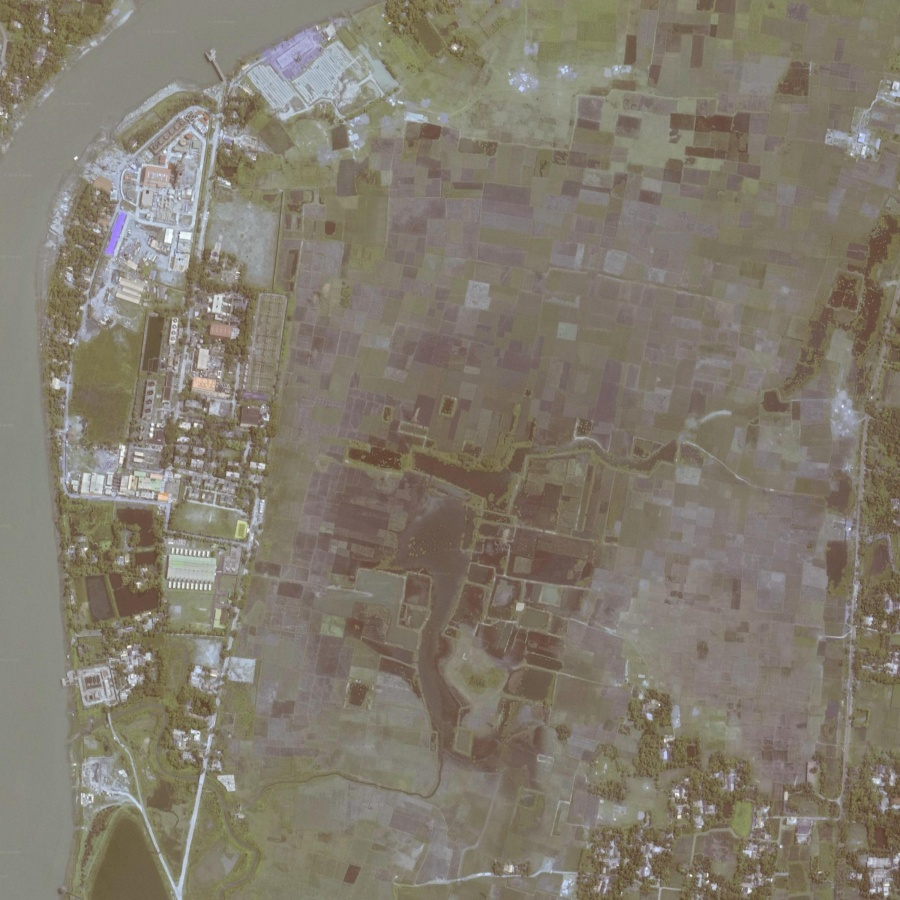PowerPlant: (132, 117, 203, 272)
